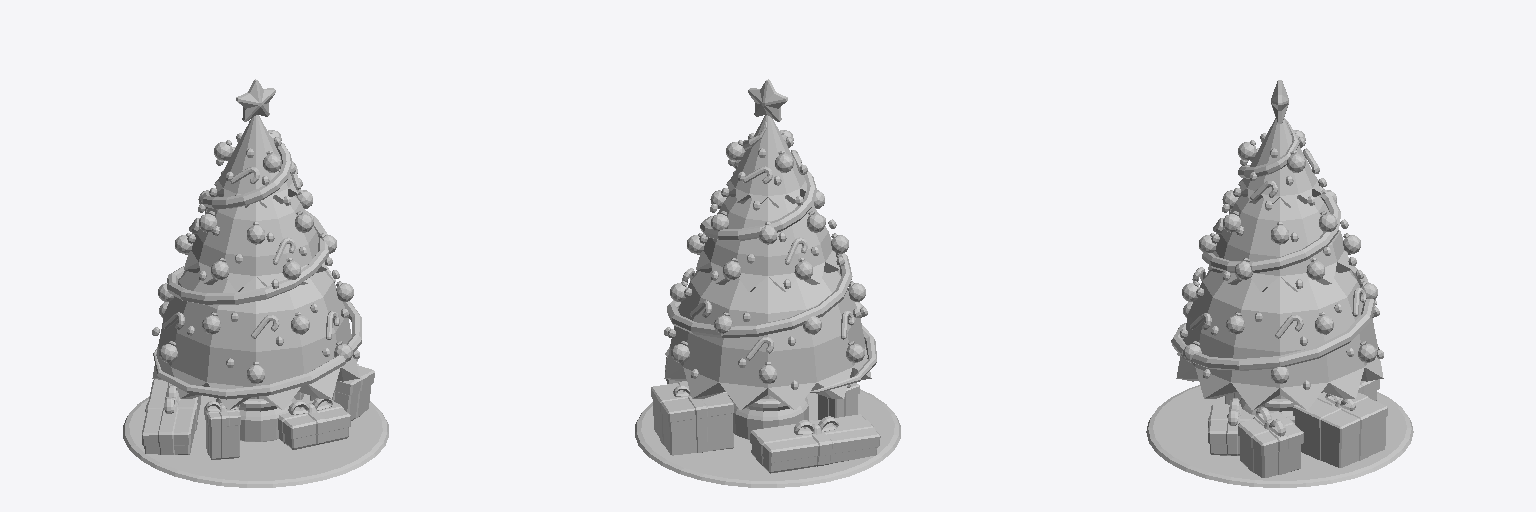
Rendered from christmas_tree_decorated.obj.
3 views of the same model, side by side, from view 1: azimuth 30°, elevation 25°; view 2: azimuth 150°, elevation 25°; view 3: azimuth 270°, elevation 25° (orthographic).
Parts seen in each view (by area): view 1: christmas_tree_decorated; view 2: christmas_tree_decorated; view 3: christmas_tree_decorated.
Boxes of the visible parts, x1=… form: christmas_tree_decorated: x1=123, y1=79, x2=388, y2=487; christmas_tree_decorated: x1=635, y1=79, x2=900, y2=487; christmas_tree_decorated: x1=1146, y1=80, x2=1413, y2=487.
Size of the model in its own units: 2.92 by 4.23 by 2.92.